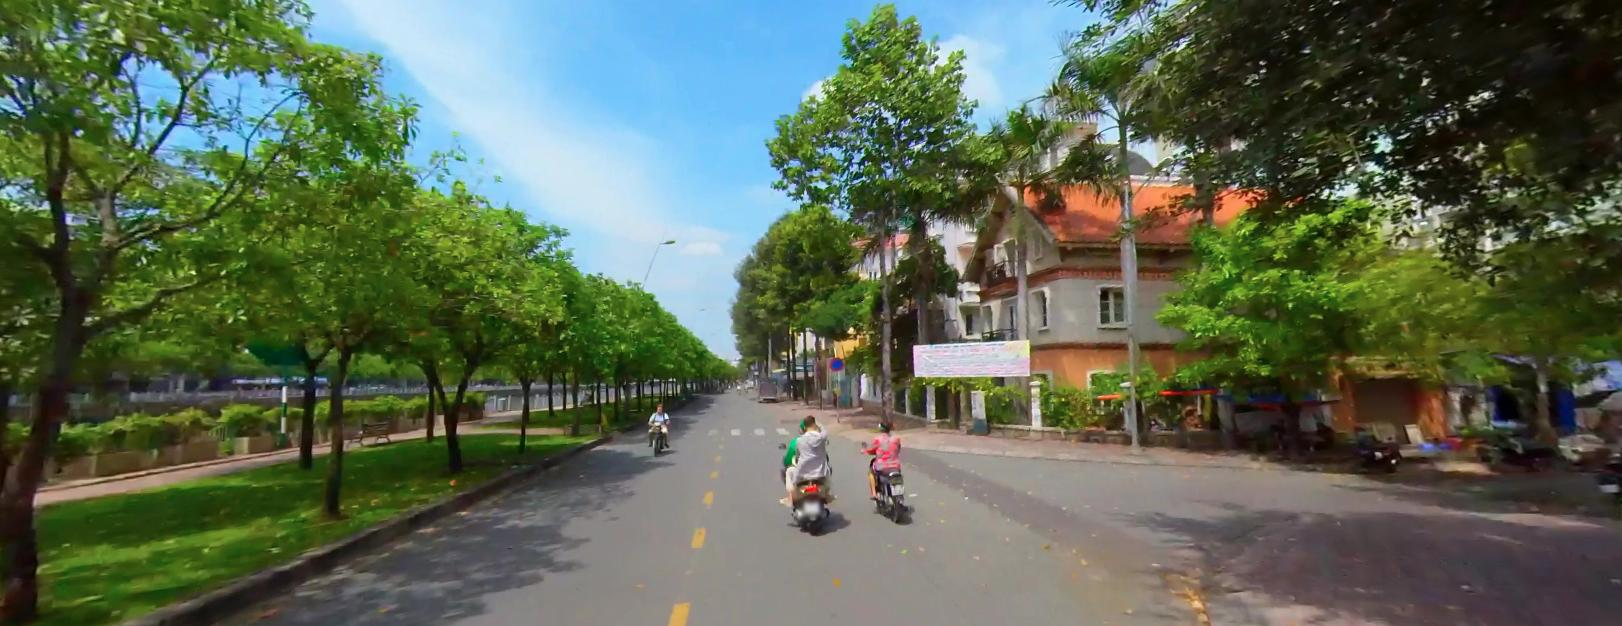Cam dung va do: (829, 356, 843, 370), (830, 357, 842, 369)
